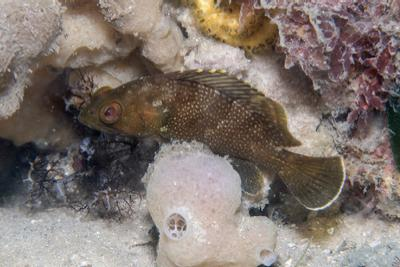Serranidae -Groupers-: (75, 65, 345, 212)
